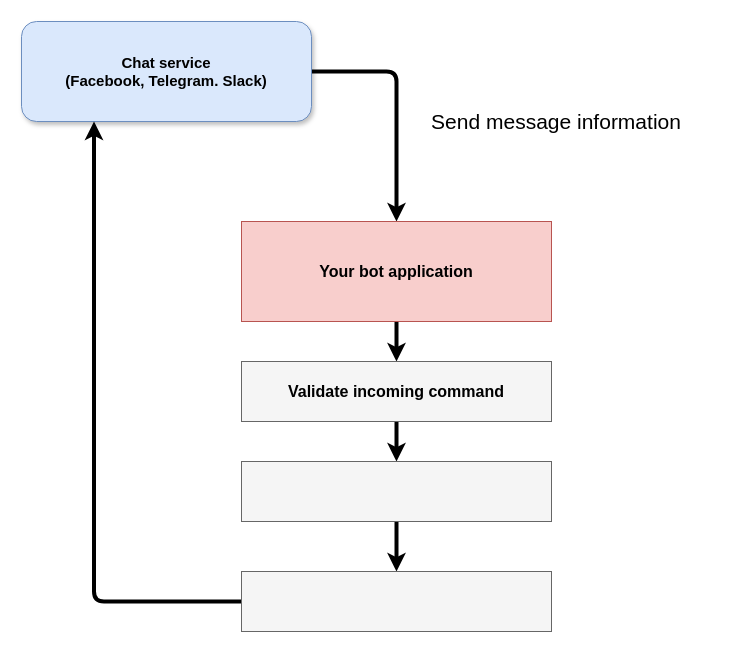
Image size: 740x649. Some labels were removed from this diagram. Here are the shapes that lost their labels. From the top down, the centre of each, then its label:
[396,491]: Check existing conversation state
[396,601]: Respond to chat service
